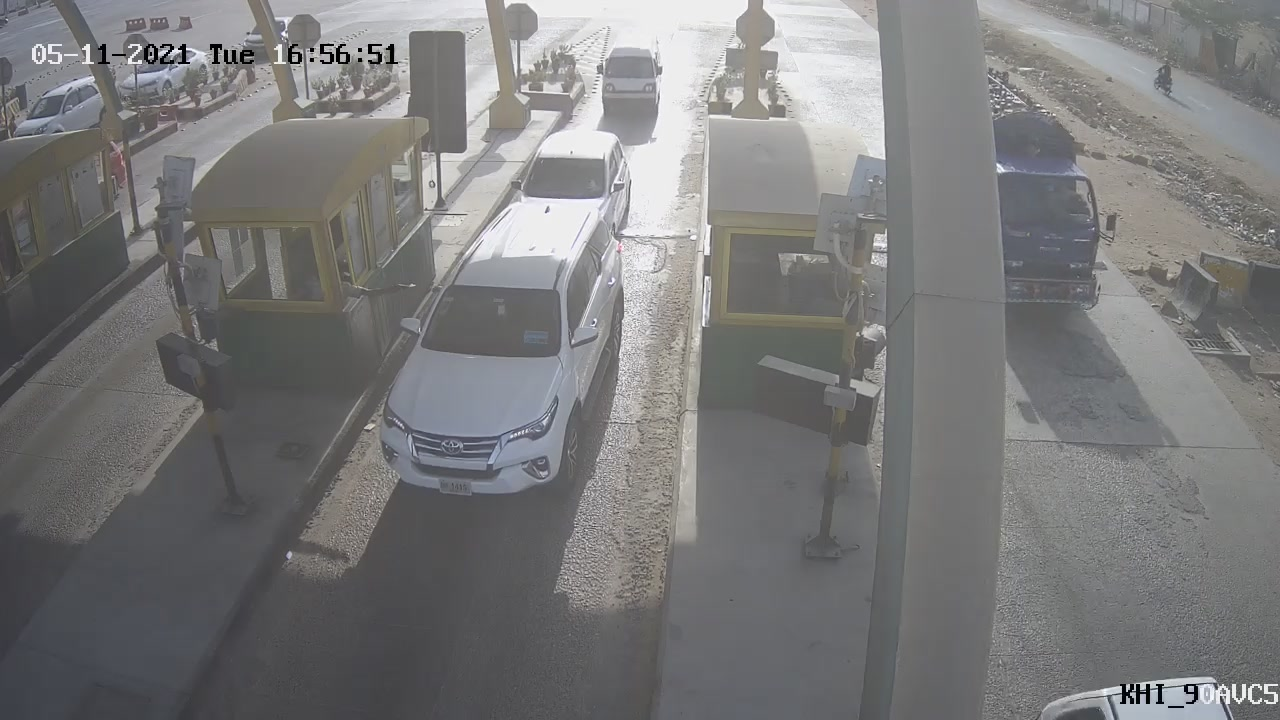F1: (363, 178, 648, 524), (585, 29, 679, 129)
